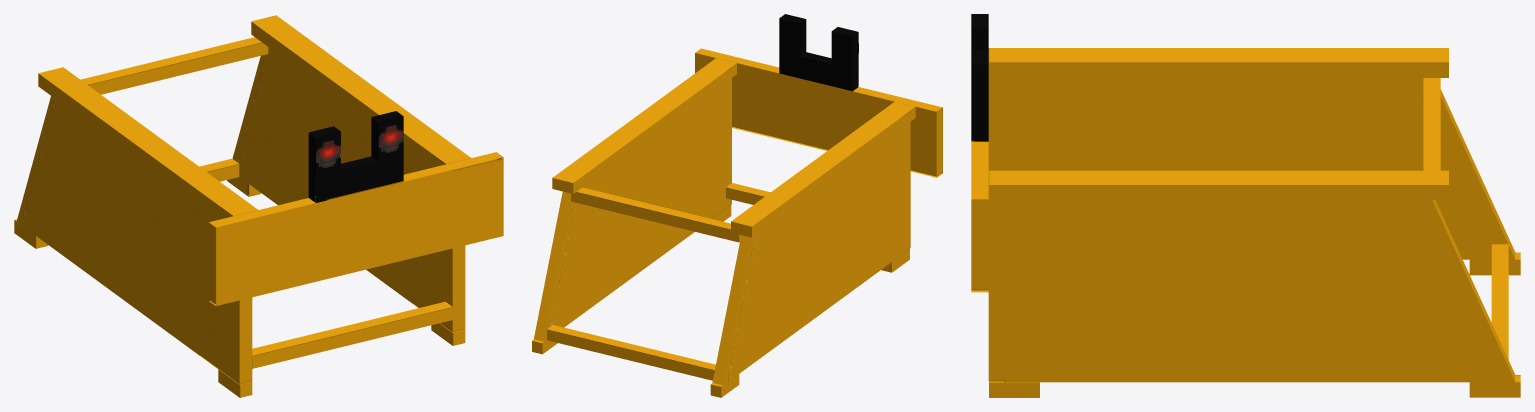
Rendered from erl_buffer_stop.obj.
The picture shows the model from 3 angles, left to right: view 1: azimuth 30°, elevation 25°; view 2: azimuth 150°, elevation 25°; view 3: azimuth 270°, elevation 25°; orthographic projection. The views are drawn at different scales.
Parts seen in each view (by area): view 1: cube, light; view 2: cube; view 3: cube.
Part boxes in pixels (<box>): cube: <box>14,15,503,397</box>; light: <box>316,125,403,168</box>; cube: <box>532,14,942,397</box>; cube: <box>971,14,1520,397</box>.
Bounding box in the file's own units: 1.44 × 1.19 × 2.01.
2 materials, 2 textured.
